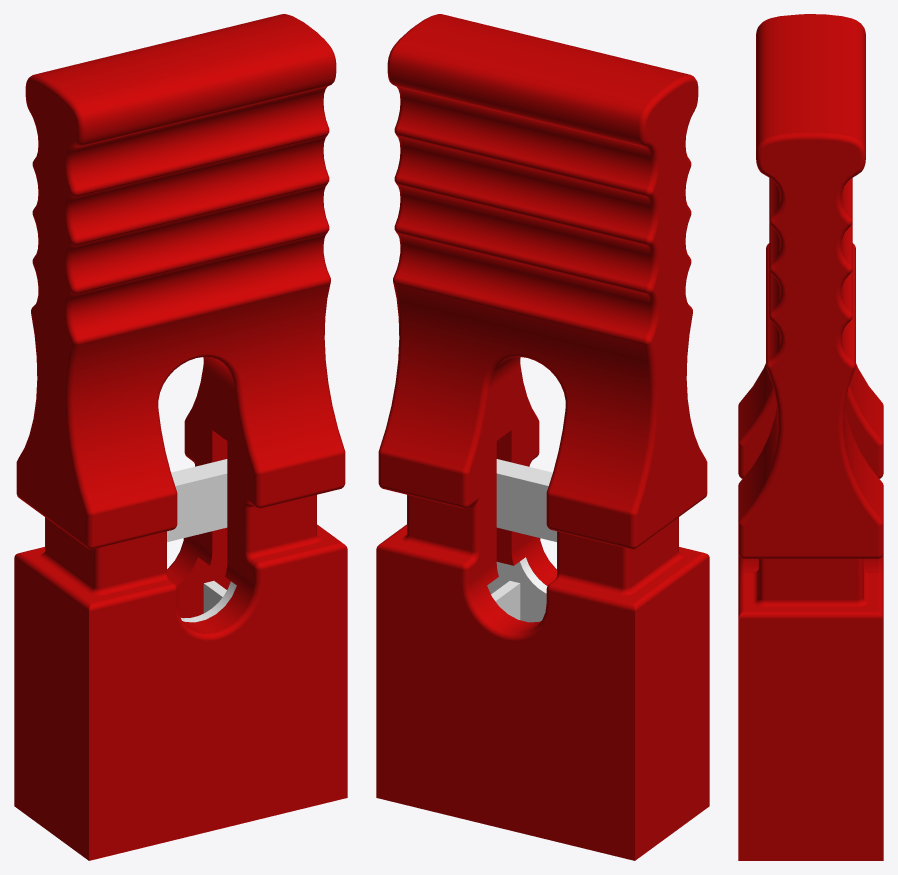
File: jumper_1x2_2.54mm_red_long.glb
3 views of the same model, side by side, from view 1: azimuth 30°, elevation 25°; view 2: azimuth 150°, elevation 25°; view 3: azimuth 270°, elevation 25° (orthographic). The views are drawn at different scales.
Parts seen in each view (by area): view 1: Solid1, Solid2; view 2: Solid1, Solid2; view 3: Solid1.
Boxes of the visible parts, x1,y1,x2,y2 form: Solid1: (14, 14, 347, 860); Solid2: (167, 459, 236, 622); Solid1: (376, 14, 709, 860); Solid2: (487, 459, 556, 622); Solid1: (738, 14, 883, 860).
Size of the model in its own units: 0.005 by 0.0138 by 0.0025.
